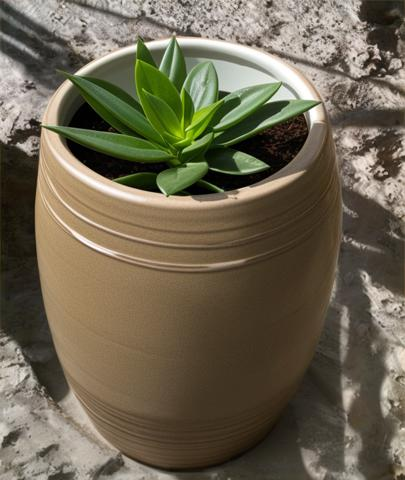pottedplant: (32, 34, 344, 473)
